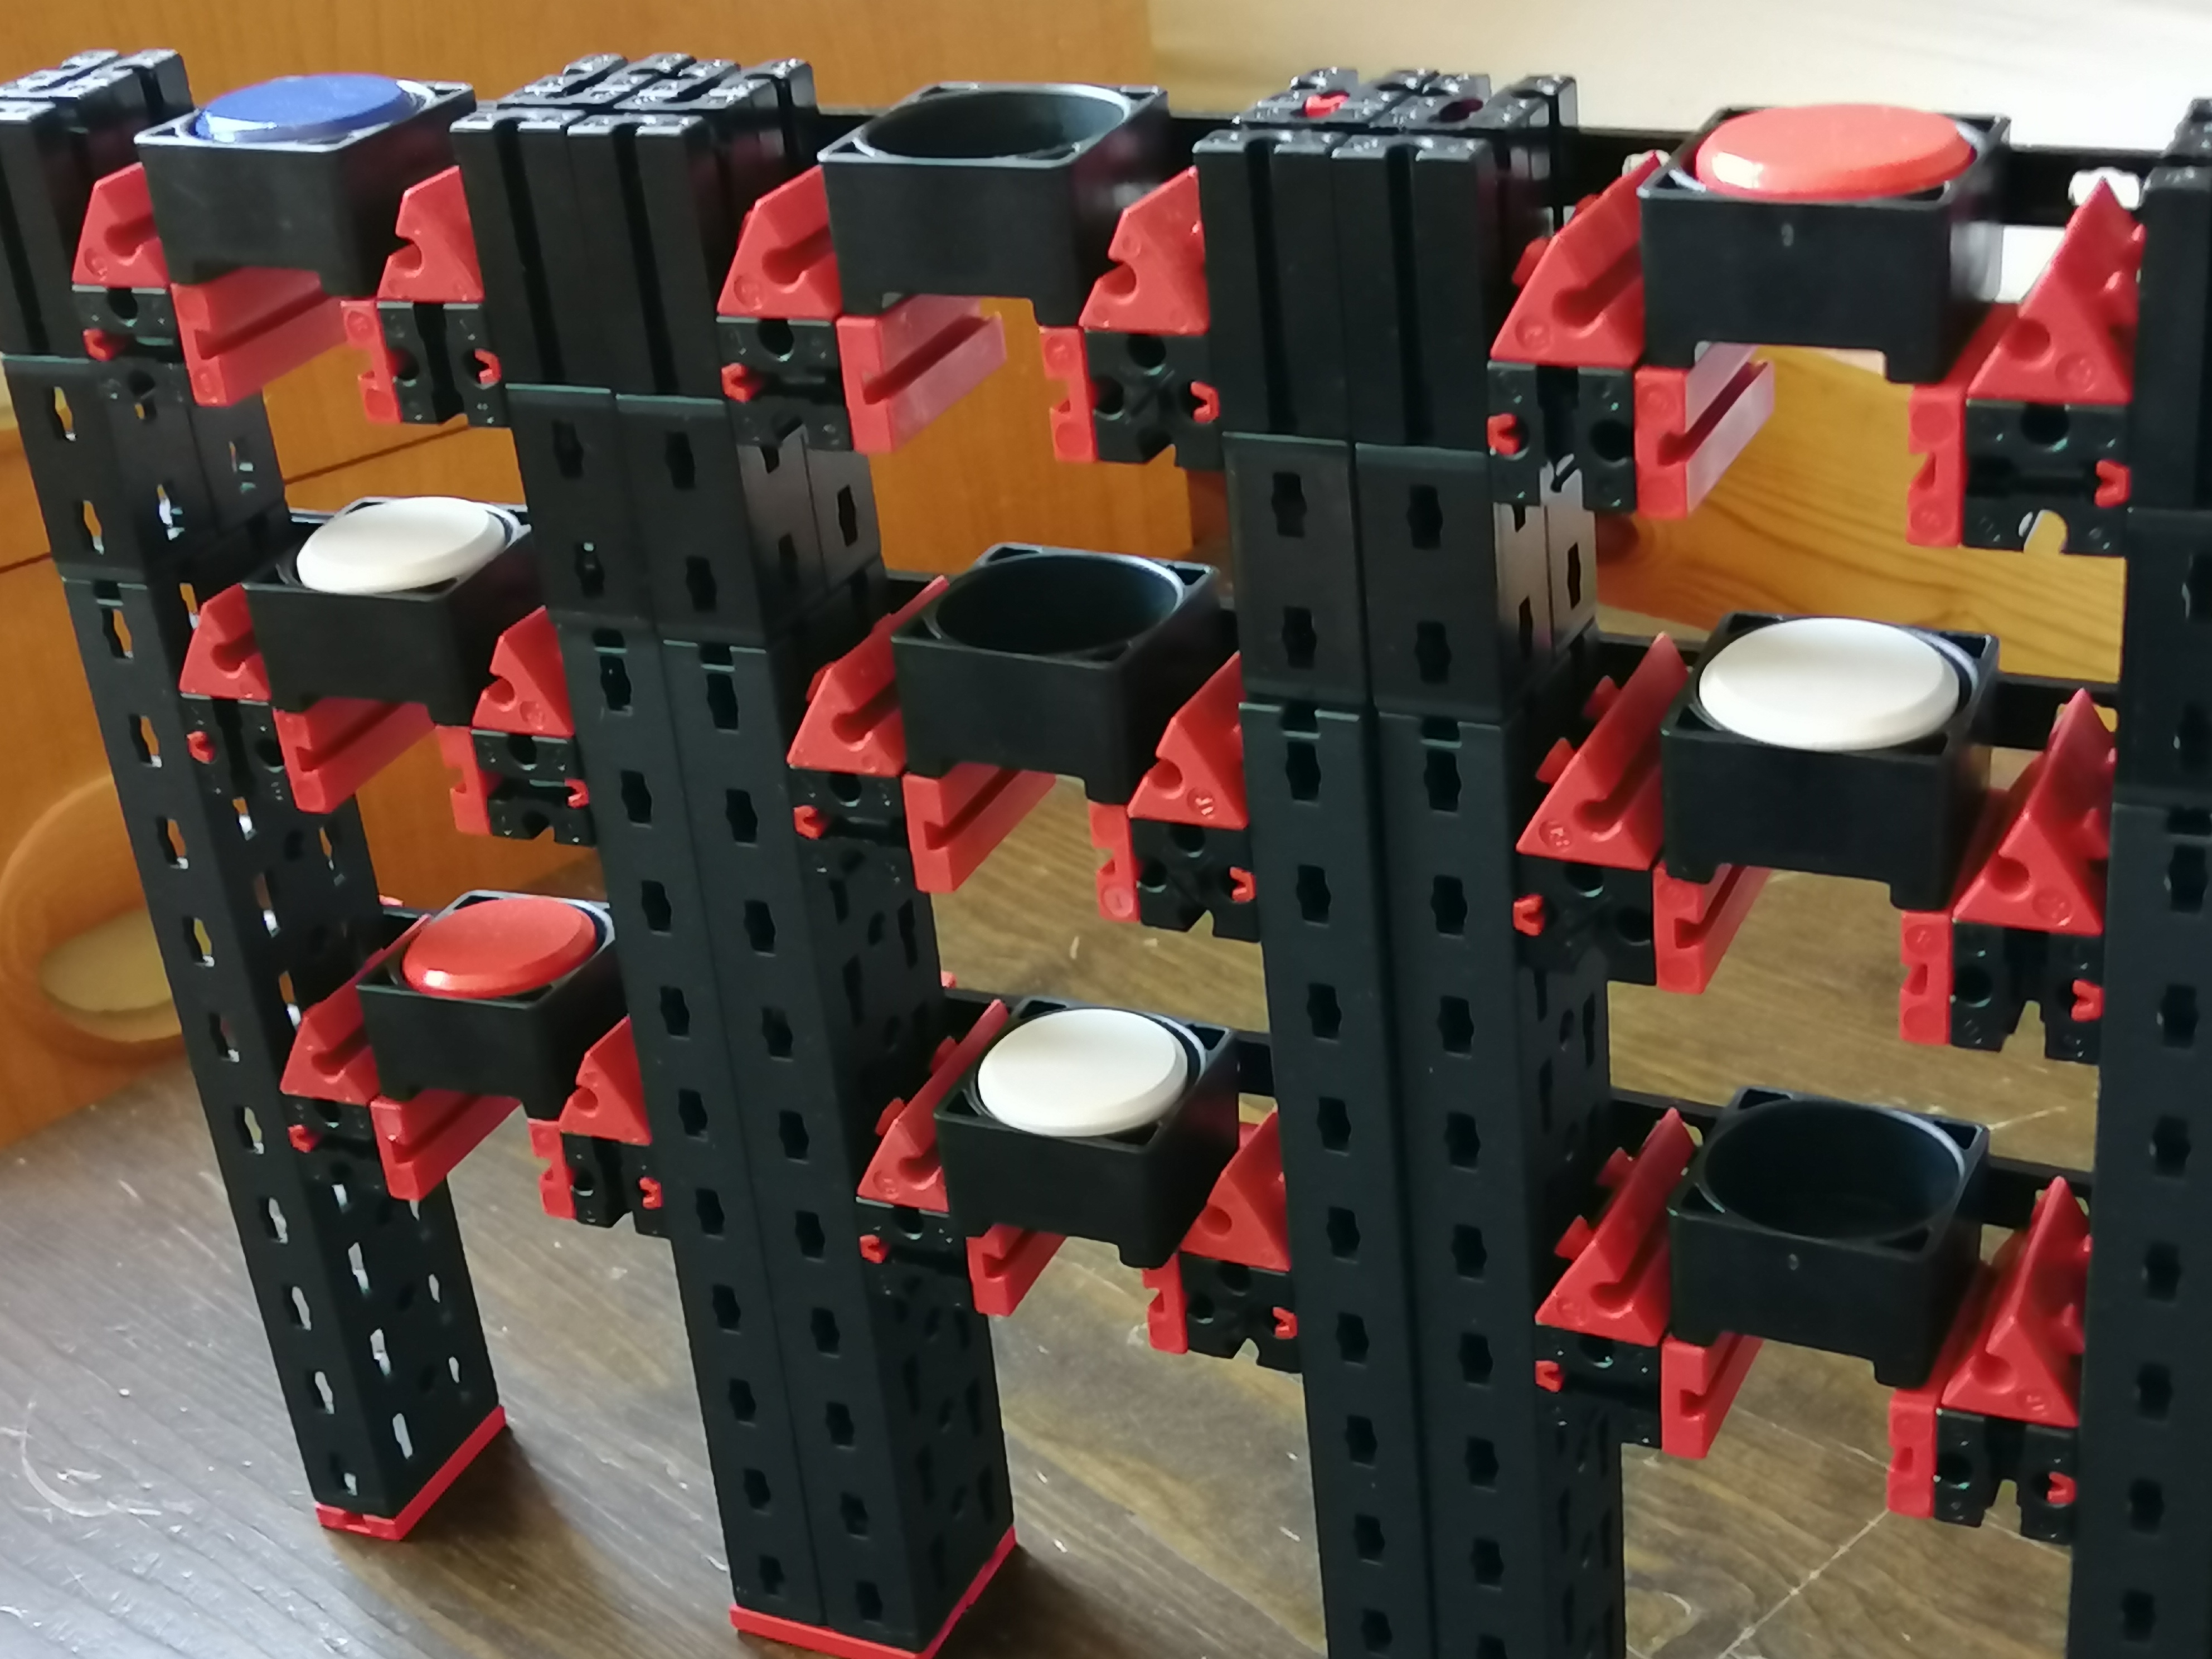Behaelter: (1674, 615, 1989, 882), (1656, 110, 1975, 369), (1683, 1121, 1966, 1347), (833, 96, 1097, 317), (951, 1011, 1204, 1243), (921, 552, 1150, 784), (369, 906, 583, 1114), (158, 99, 395, 282), (268, 516, 486, 709)
WerkStueck: (1707, 622, 1963, 756), (1705, 108, 1968, 207), (988, 1014, 1181, 1134), (301, 504, 502, 596), (406, 911, 597, 986), (223, 80, 402, 131)
